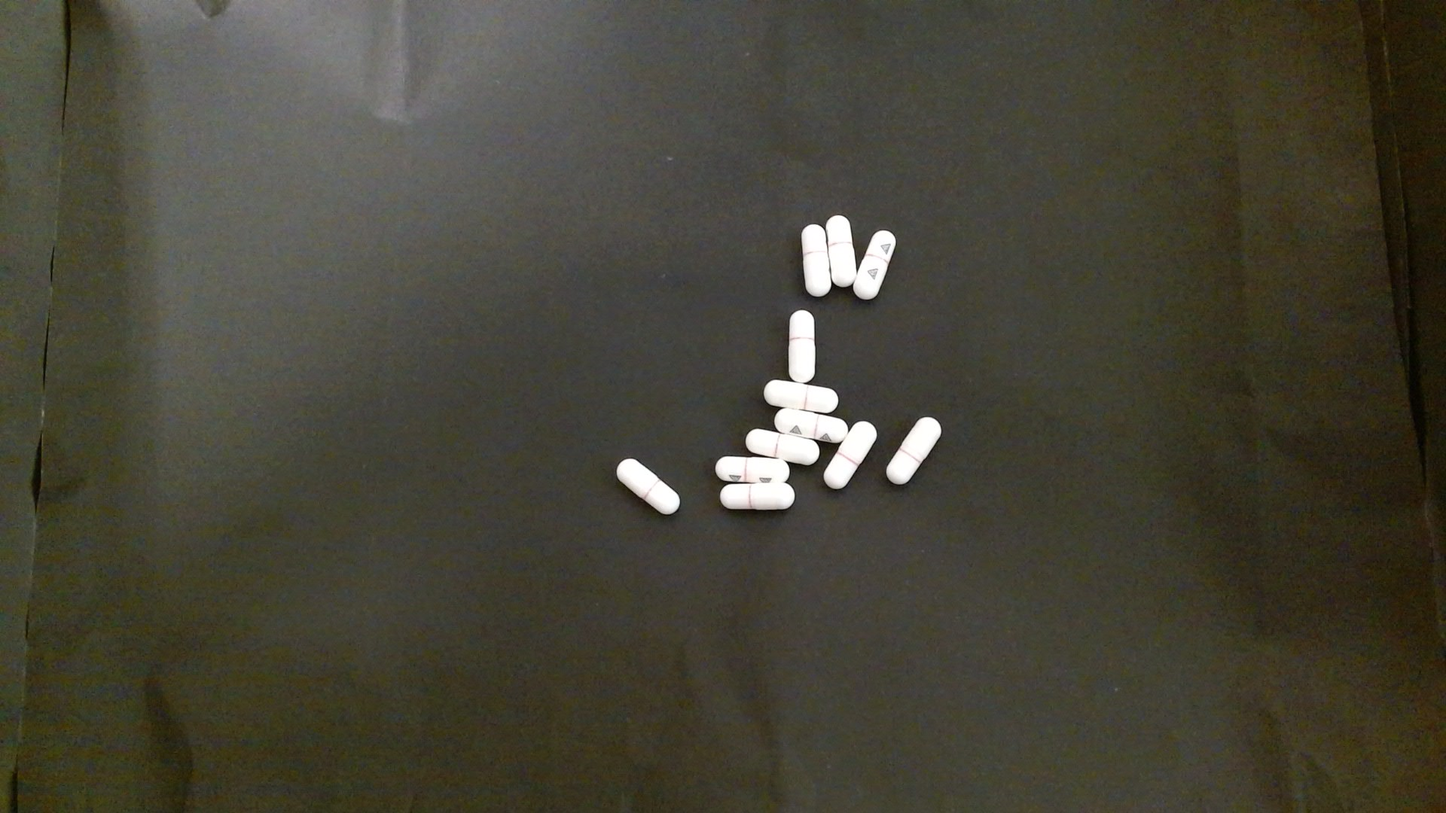Capsule: (614, 457, 682, 520), (886, 418, 941, 486), (824, 421, 877, 489), (853, 230, 896, 300), (745, 428, 822, 465), (771, 407, 848, 444), (718, 479, 797, 514), (799, 222, 833, 299), (764, 379, 838, 414), (825, 215, 857, 288), (714, 455, 790, 484), (788, 308, 817, 383)
